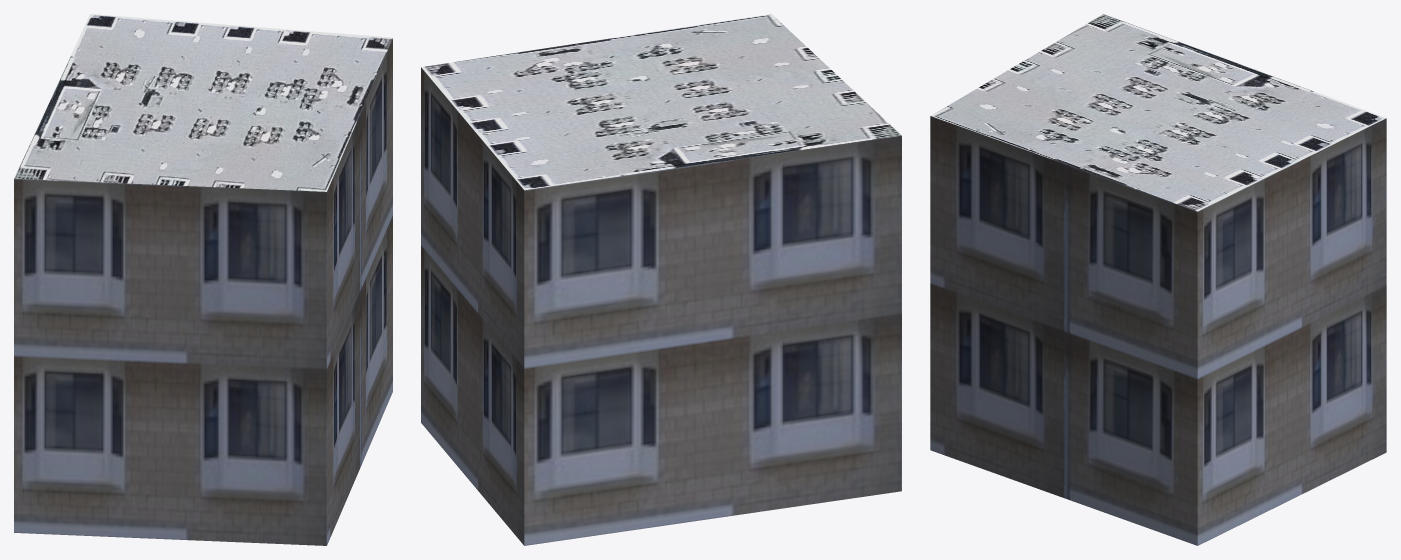
Rendered from ResTex__4629.fbx.
The picture shows the model from 3 angles, left to right: view 1: azimuth 30°, elevation 25°; view 2: azimuth 150°, elevation 25°; view 3: azimuth 270°, elevation 25°; orthographic projection. The views are drawn at different scales.
Visible parts, largest first — view 1: CityEngineMaterial_3_m, CityEngineMaterial_4_m; view 2: CityEngineMaterial_3_m, CityEngineMaterial_4_m; view 3: CityEngineMaterial_3_m, CityEngineMaterial_4_m.
Part boxes in pixels (<box>): CityEngineMaterial_3_m: <box>14,38,392,545</box>; CityEngineMaterial_4_m: <box>14,14,392,191</box>; CityEngineMaterial_3_m: <box>421,67,901,545</box>; CityEngineMaterial_4_m: <box>421,14,901,190</box>; CityEngineMaterial_3_m: <box>930,116,1386,545</box>; CityEngineMaterial_4_m: <box>931,14,1385,211</box>.
Size of the model in its own units: 7.6 by 6 by 7.42.
Materials: 2 (2 with a texture image).
